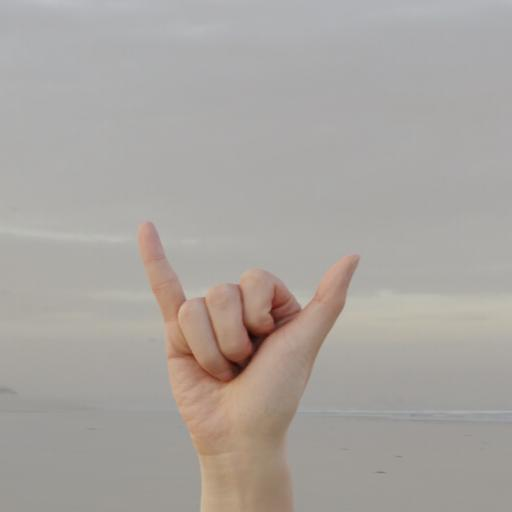Y: (130, 218, 362, 444)
